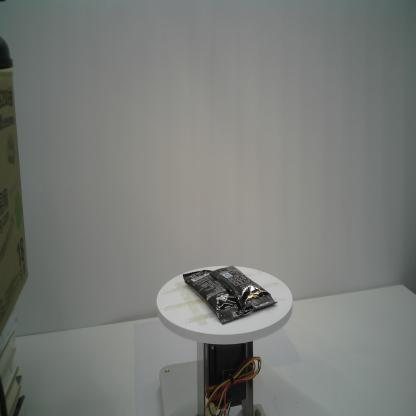Instant Drink: (182, 265, 278, 325)
